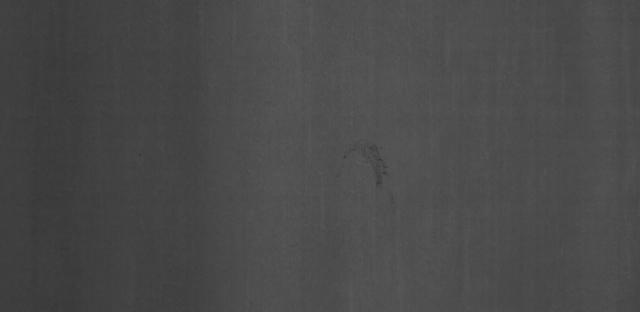water_spot: (330, 129, 398, 200)
